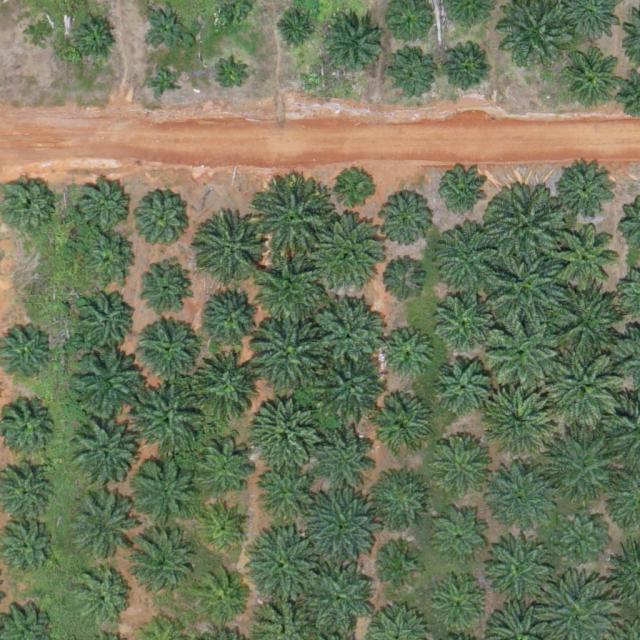Healthy: (549, 350, 627, 429), (486, 187, 564, 266), (255, 184, 333, 263), (489, 246, 567, 324), (482, 389, 553, 460), (306, 490, 377, 561), (317, 219, 388, 290), (251, 321, 322, 392), (249, 396, 320, 467), (551, 433, 622, 503), (552, 287, 622, 358), (489, 317, 560, 387), (484, 465, 554, 536), (435, 222, 506, 292), (306, 564, 376, 635), (254, 533, 324, 604), (185, 434, 256, 504), (190, 352, 260, 423), (131, 455, 201, 526), (129, 528, 199, 599), (72, 350, 142, 421), (485, 535, 555, 605), (317, 353, 387, 423), (314, 299, 384, 369), (257, 258, 327, 328), (134, 387, 204, 457), (555, 161, 618, 224), (74, 289, 137, 352), (557, 231, 619, 294), (316, 420, 378, 483), (204, 285, 266, 348), (200, 221, 263, 283), (131, 188, 193, 251), (139, 319, 202, 381), (69, 495, 131, 558), (71, 424, 133, 487), (322, 14, 384, 77), (372, 396, 434, 458), (433, 578, 488, 633), (435, 294, 490, 349), (378, 195, 433, 250), (379, 328, 434, 383), (253, 468, 308, 523), (193, 571, 248, 626), (136, 260, 191, 315), (74, 569, 129, 624), (85, 232, 140, 287), (562, 50, 617, 105), (437, 438, 491, 493), (436, 359, 490, 414), (375, 472, 429, 527), (78, 180, 132, 235), (439, 516, 486, 564), (389, 50, 436, 98), (560, 510, 607, 557), (445, 48, 492, 95)
Small: (198, 501, 253, 556), (435, 166, 490, 221), (379, 260, 426, 308), (72, 16, 119, 63), (144, 4, 191, 51), (387, 2, 427, 42), (277, 13, 317, 53), (380, 546, 420, 585), (338, 168, 377, 207), (216, 62, 247, 94), (149, 67, 180, 99), (25, 19, 56, 50)
